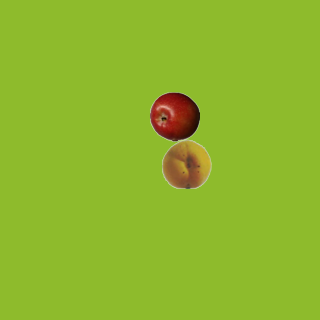Apple Braeburn: (149, 91, 199, 141)
Peach 2: (161, 138, 211, 188)
